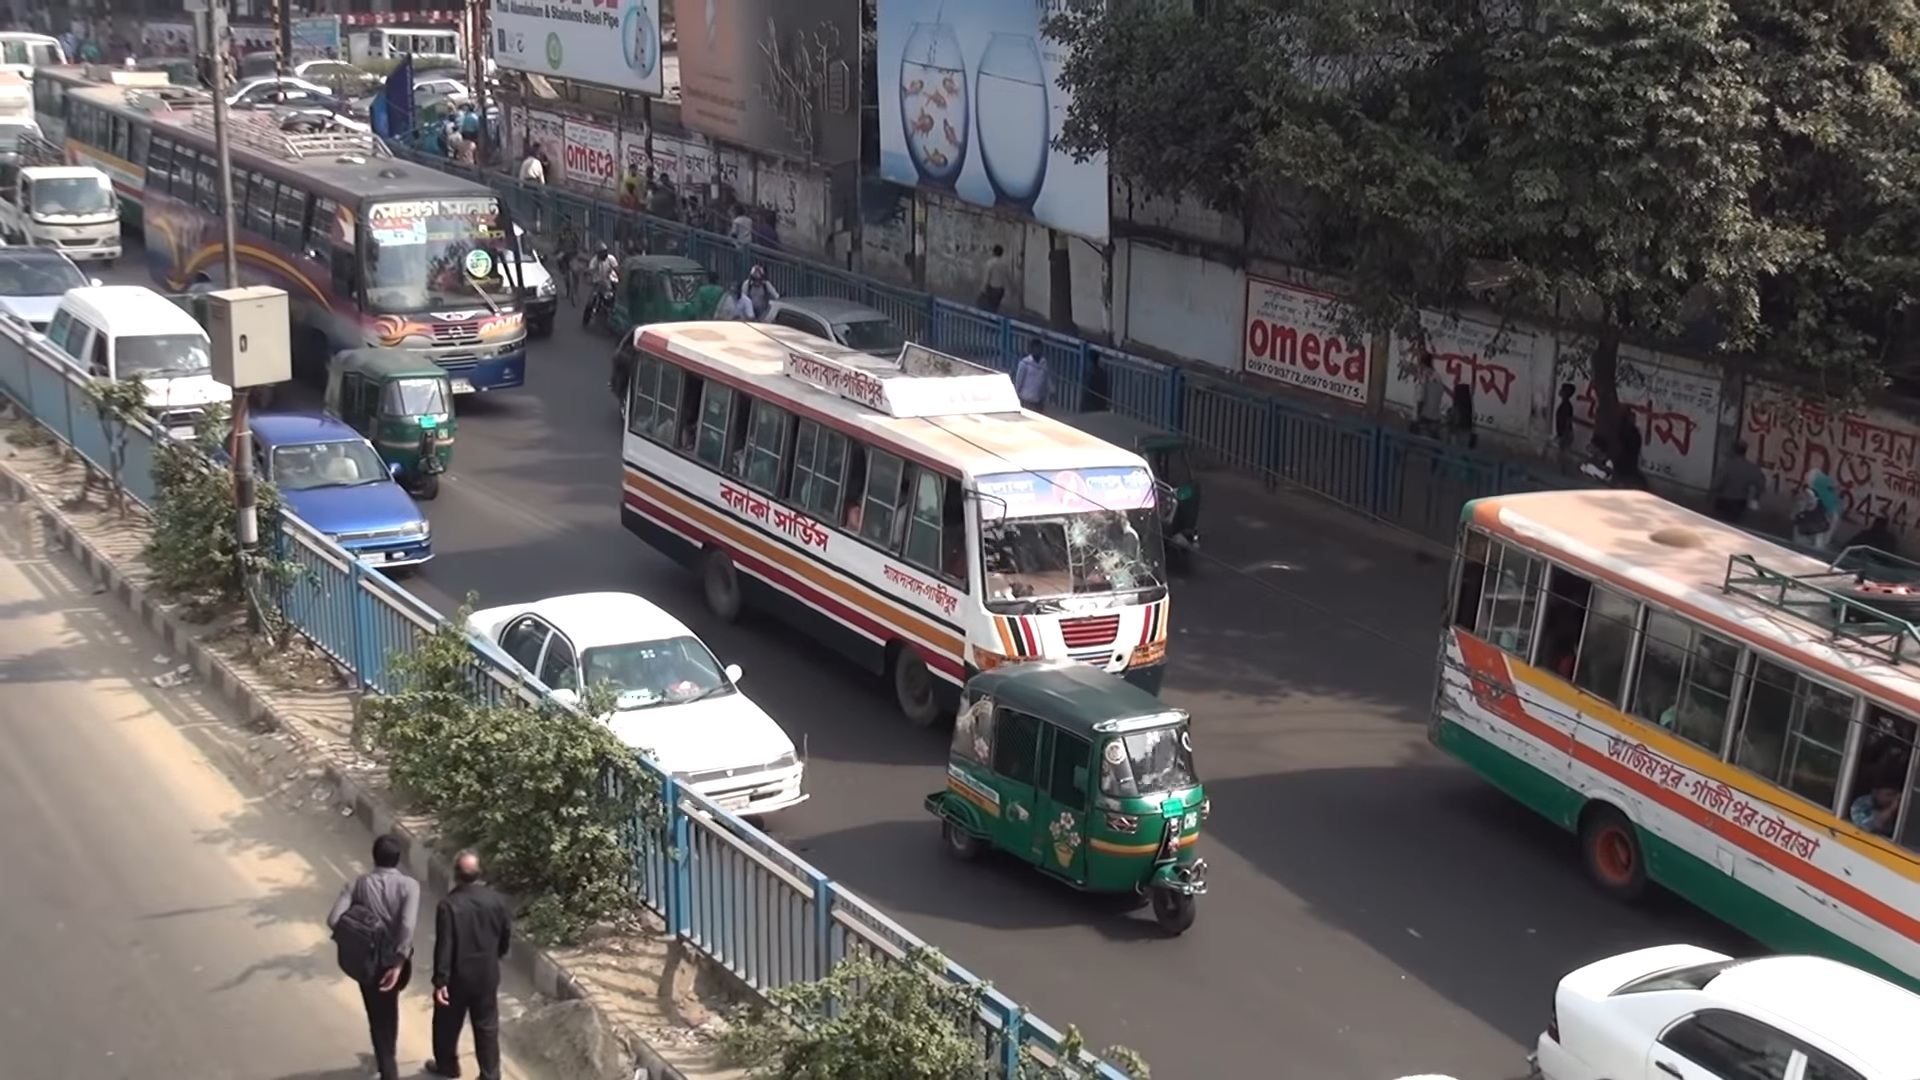bus: (1425, 491, 1920, 986), (620, 314, 1172, 732), (138, 120, 530, 401), (65, 88, 215, 233), (32, 69, 123, 153)
car: (467, 593, 808, 824), (1534, 942, 1920, 1079), (204, 407, 433, 570), (49, 284, 233, 448), (767, 291, 915, 364), (1, 243, 102, 334), (501, 224, 553, 314)
cng: (928, 662, 1207, 942), (1073, 407, 1203, 568), (326, 347, 458, 498), (609, 251, 709, 320)
truck: (1, 166, 124, 260)
